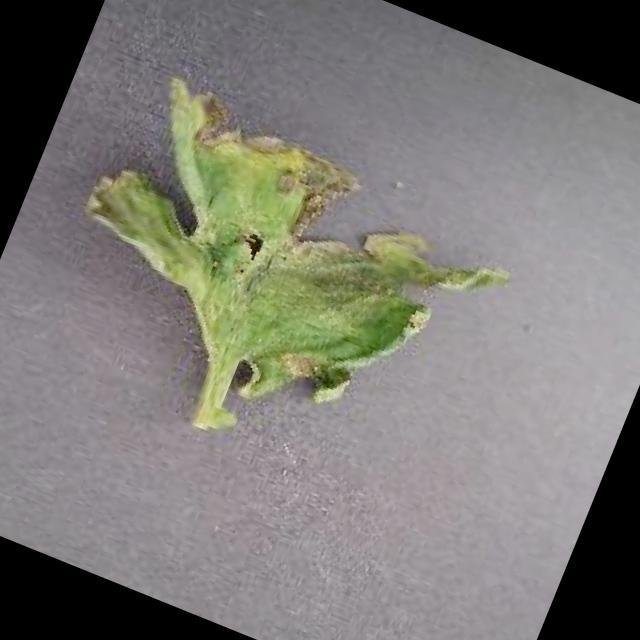Tomato late blight leaf: (39, 58, 538, 480)
